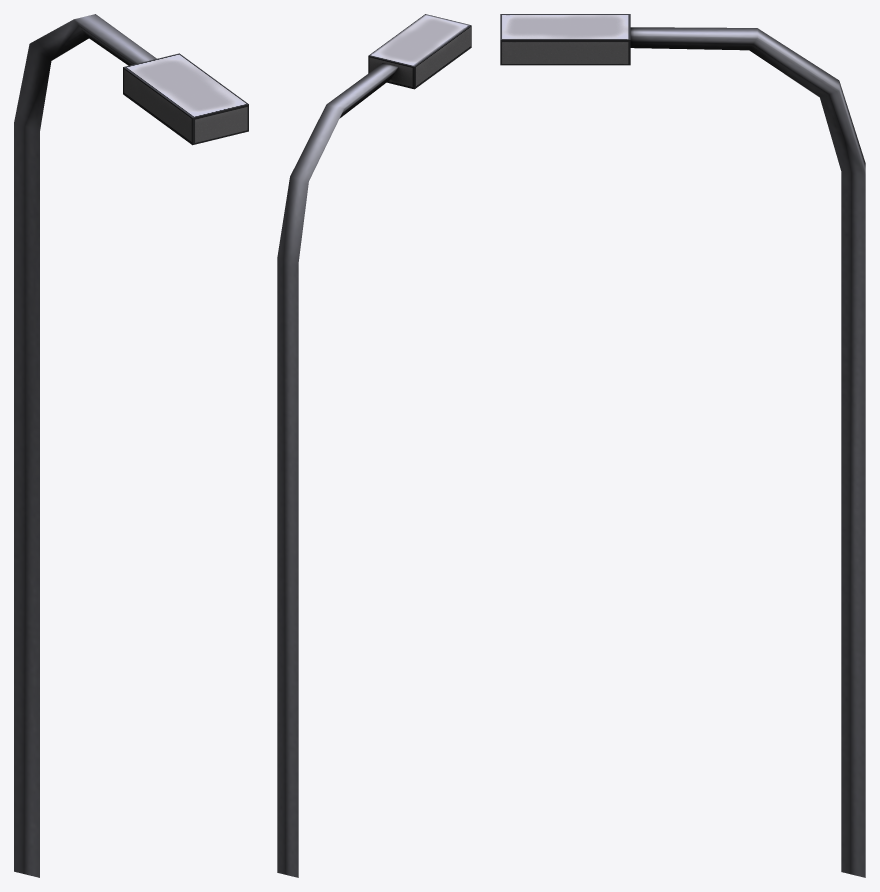
Rendered from street_01.FBX.
3 views of the same model, side by side, from view 1: azimuth 30°, elevation 25°; view 2: azimuth 150°, elevation 25°; view 3: azimuth 270°, elevation 25° (orthographic). The views are drawn at different scales.
Visible parts, largest first — view 1: street_01; view 2: street_01; view 3: street_01.
Boxes of the visible parts, box(x1,y1,x2,y2) form: street_01: box(14, 14, 248, 877); street_01: box(277, 14, 471, 877); street_01: box(500, 14, 865, 877).
Bounding box in the file's own units: 50.84 × 775 × 304.
